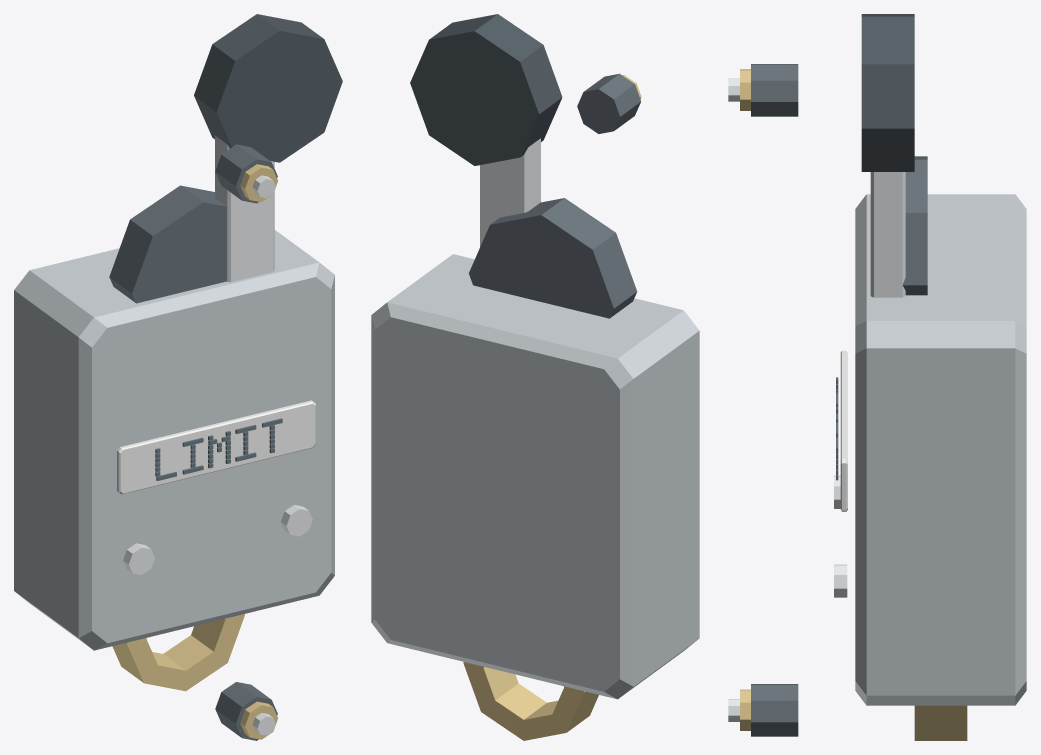
The model's file is limitSwitch.glb.
The picture shows the model from 3 angles, left to right: view 1: azimuth 30°, elevation 25°; view 2: azimuth 150°, elevation 25°; view 3: azimuth 270°, elevation 25°; orthographic projection. The views are drawn at different scales.
Parts seen in each view (by area): view 1: limitSwitch-board; view 2: limitSwitch-board; view 3: limitSwitch-board.
Boxes of the visible parts, left/top/right/bottom form: limitSwitch-board: left=14, top=14, right=342, bottom=740; limitSwitch-board: left=371, top=14, right=699, bottom=740; limitSwitch-board: left=728, top=14, right=1026, bottom=740.
Bounding box in the file's own units: 1.19 × 2.87 × 1.02.
